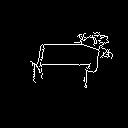cube: (26, 54, 99, 113)
